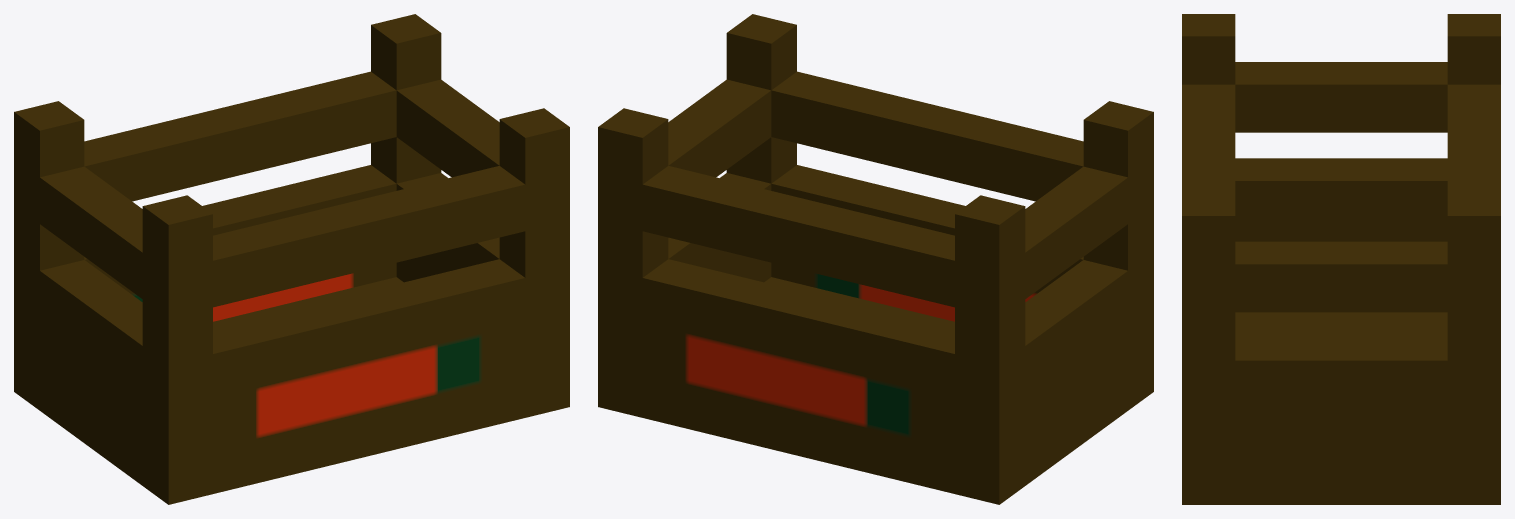
File: chapter2_carrotbox_emp.fbx
The picture shows the model from 3 angles, left to right: view 1: azimuth 30°, elevation 25°; view 2: azimuth 150°, elevation 25°; view 3: azimuth 270°, elevation 25°; orthographic projection. The views are drawn at different scales.
Visible parts, largest first — view 1: Matrix; view 2: Matrix; view 3: Matrix.
Boxes of the visible parts, <box> form: Matrix: <box>14,14,569,504</box>; Matrix: <box>598,14,1153,504</box>; Matrix: <box>1182,14,1500,504</box>.
Bounding box in the file's own units: 9 × 6 × 6.
